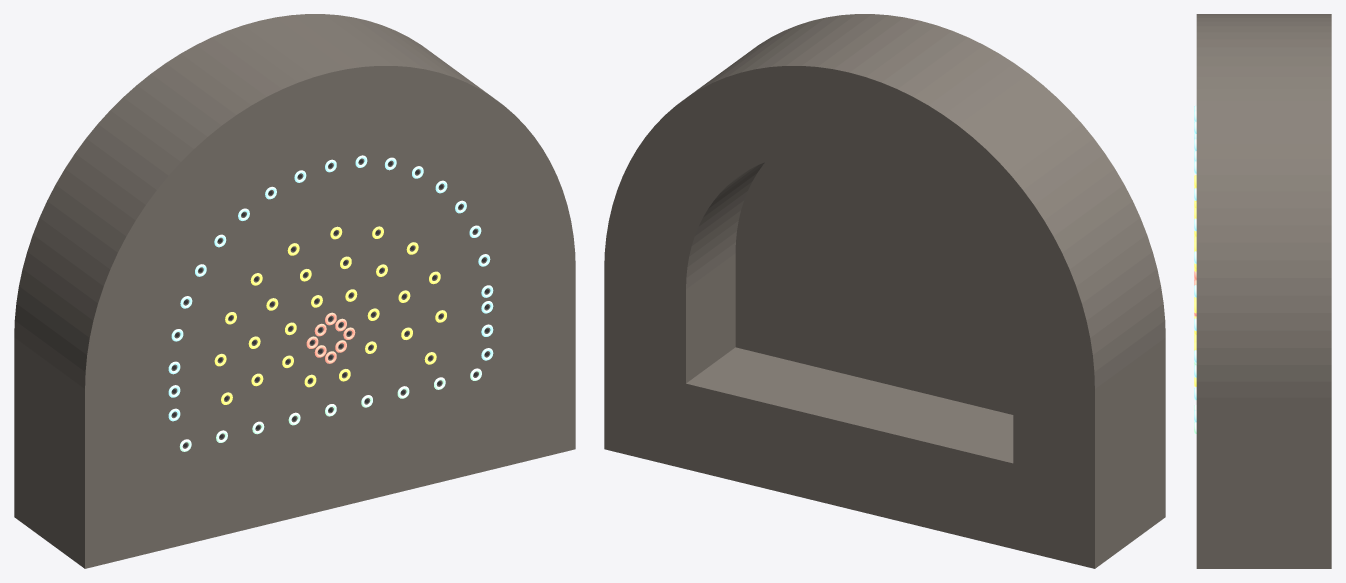
Rendered from full.glb.
3 renders of one model, left to right at view 1: azimuth 30°, elevation 25°; view 2: azimuth 150°, elevation 25°; view 3: azimuth 270°, elevation 25°, orthographic. The views are drawn at different scales.
Parts seen in each view (by area): view 1: tunnel-face, easer-holes, contour-holes, lifter-holes, cut-holes; view 2: tunnel-face; view 3: tunnel-face, contour-holes, easer-holes.
Part boxes in pixels (x1,y1,x2,y2): tunnel-face: (14,14,575,568); easer-holes: (214,226,446,404); contour-holes: (168,155,493,421); lifter-holes: (179,368,481,451); cut-holes: (306,312,355,363); tunnel-face: (604,14,1165,568); tunnel-face: (1196,14,1331,568); contour-holes: (1194,105,1196,422); easer-holes: (1194,175,1196,386).
Size of the model in its own units: 12 by 10.2 by 3.05.
